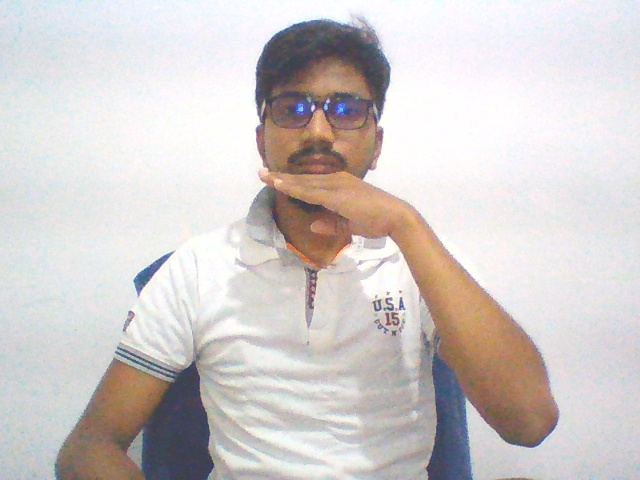elephant: (249, 155, 426, 242)
